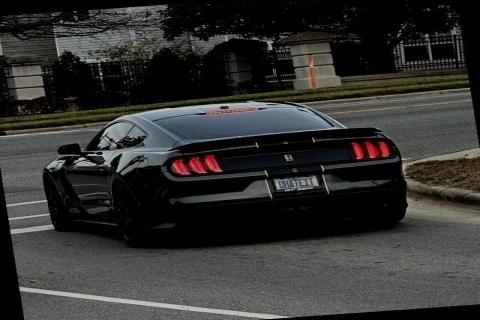LicensePlate: (270, 171, 320, 192)
